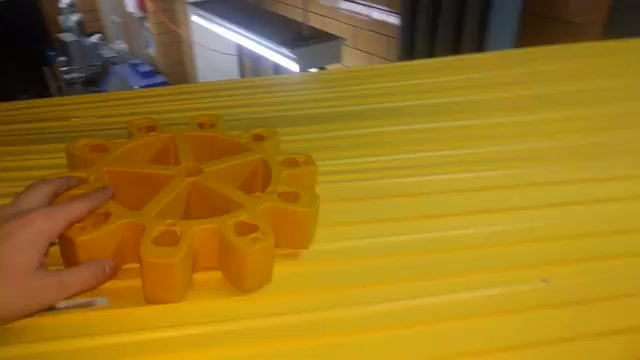gear: (25, 109, 334, 306)
